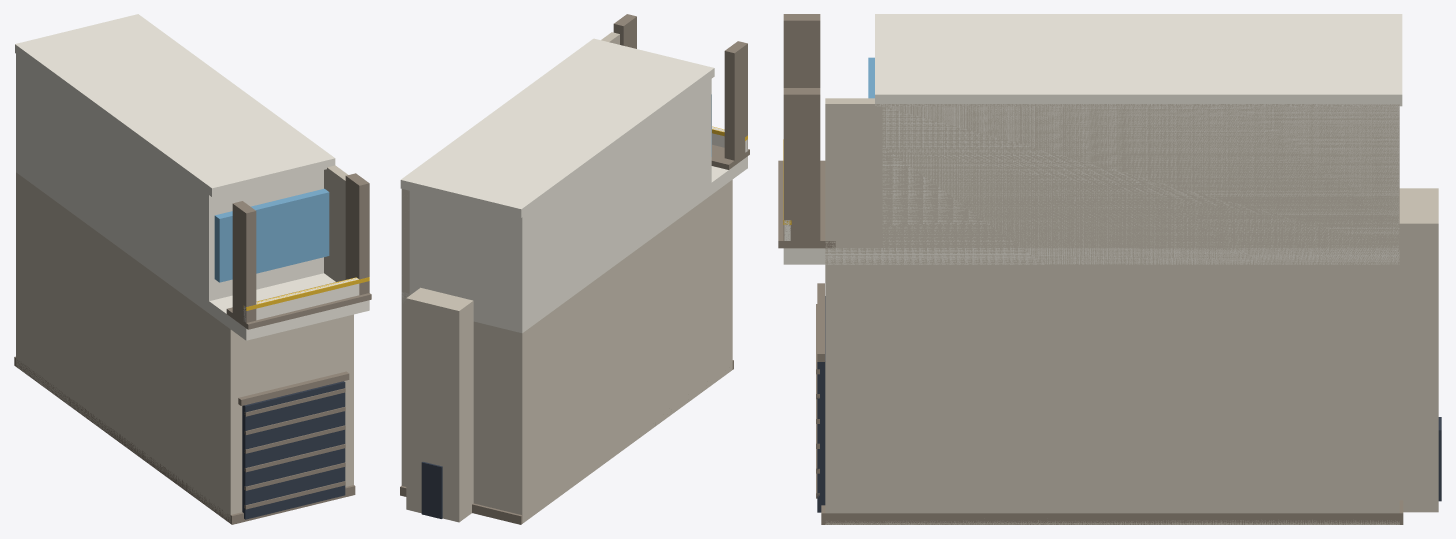
Rendered from pitClubHead.glb.
The picture shows the model from 3 angles, left to right: view 1: azimuth 30°, elevation 25°; view 2: azimuth 150°, elevation 25°; view 3: azimuth 270°, elevation 25°; orthographic projection. The views are drawn at different scales.
Visible parts, largest first — view 1: pitClubHead_white, pitClubHead_concrete, pitClubHead_concreteDark, pitClubHead_steelDark, pitClubHead_glass, pitClubHead_yellow; view 2: pitClubHead_concrete, pitClubHead_white, pitClubHead_concreteDark, pitClubHead_steelDark; view 3: pitClubHead_concrete, pitClubHead_white, pitClubHead_concreteDark, pitClubHead_steelDark.
Part boxes in pixels (left/top/right/bottom): pitClubHead_white: left=15, top=14, right=369, bottom=340; pitClubHead_concrete: left=16, top=165, right=353, bottom=523; pitClubHead_concreteDark: left=14, top=173, right=371, bottom=524; pitClubHead_steelDark: left=242, top=381, right=345, bottom=519; pitClubHead_glass: left=214, top=188, right=329, bottom=282; pitClubHead_yellow: left=243, top=277, right=369, bottom=310; pitClubHead_concrete: left=401, top=32, right=732, bottom=523; pitClubHead_white: left=400, top=38, right=747, bottom=333; pitClubHead_concreteDark: left=400, top=14, right=749, bottom=524; pitClubHead_steelDark: left=421, top=462, right=442, bottom=518; pitClubHead_concrete: left=825, top=98, right=1438, bottom=524; pitClubHead_white: left=783, top=14, right=1402, bottom=264; pitClubHead_concreteDark: left=778, top=14, right=1403, bottom=524; pitClubHead_steelDark: left=817, top=296, right=1441, bottom=512.
Bounding box in the file's own units: 7.3 × 18.2 × 25.41.
